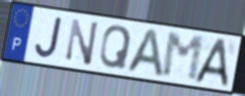A: (123, 27, 165, 80), (192, 38, 230, 88)
J: (34, 16, 64, 60)
M: (160, 31, 206, 84)
N: (64, 17, 101, 68)
Q: (98, 23, 134, 71)
